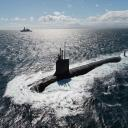submarine: (27, 41, 128, 97)
